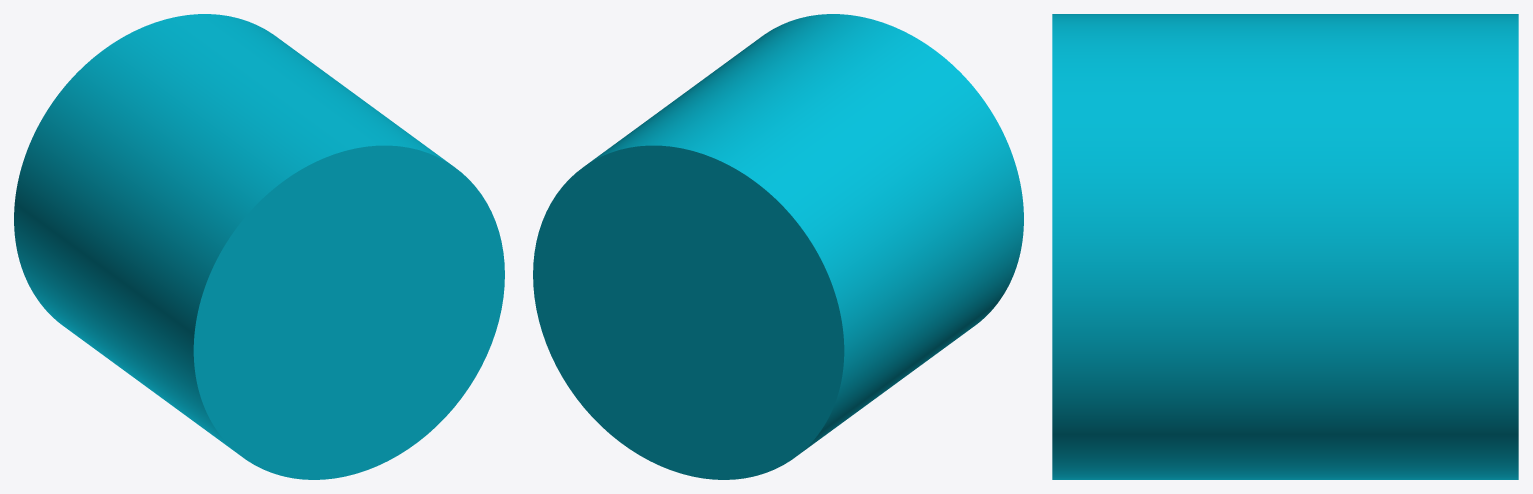
3 renders of one model, left to right at view 1: azimuth 30°, elevation 25°; view 2: azimuth 150°, elevation 25°; view 3: azimuth 270°, elevation 25°, orthographic. The views are drawn at different scales.
Parts seen in each view (by area): view 1: ____01; view 2: ____01; view 3: ____01.
Boxes of the visible parts, x1=… form: ____01: x1=14, y1=14, x2=504, y2=479; ____01: x1=533, y1=14, x2=1023, y2=479; ____01: x1=1052, y1=14, x2=1518, y2=479.
Bounding box in the file's own units: 0.02 × 0.02 × 0.02.
